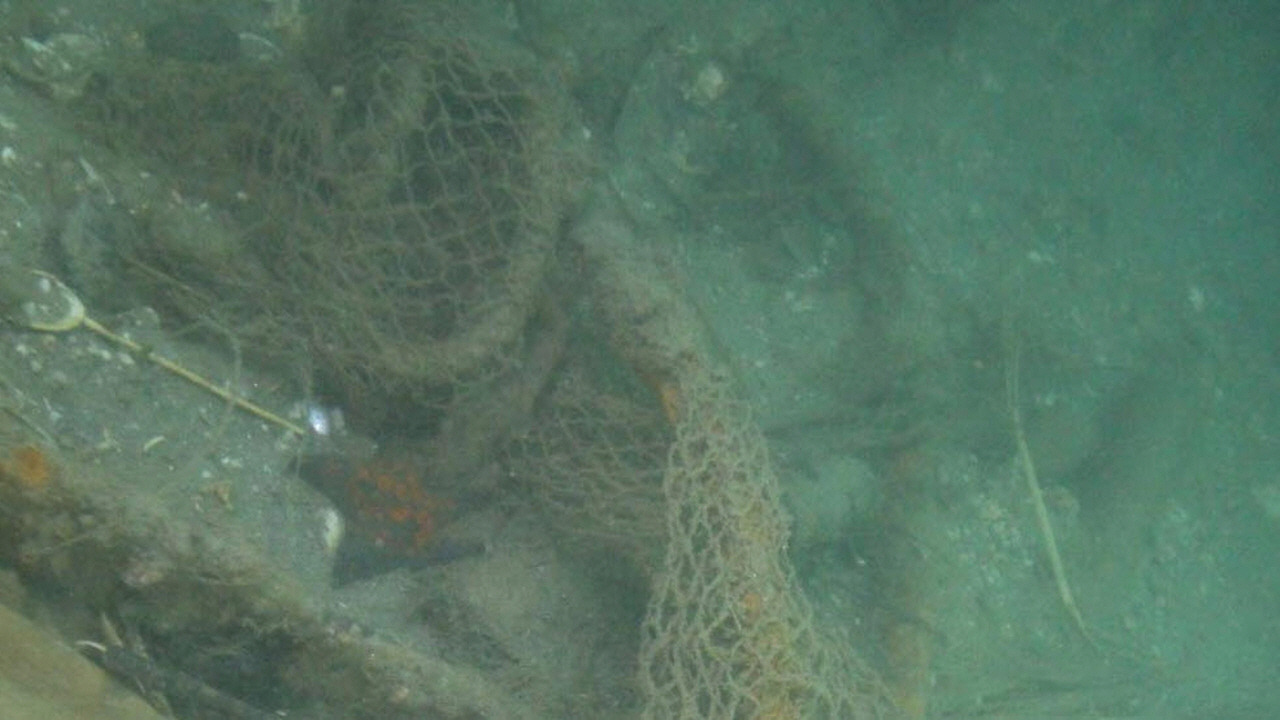fish net: (98, 0, 901, 720)
